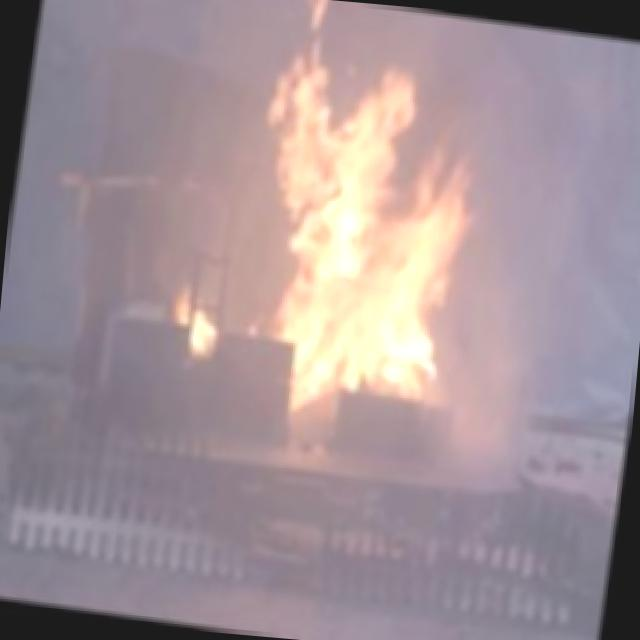fire: (225, 0, 530, 455)
